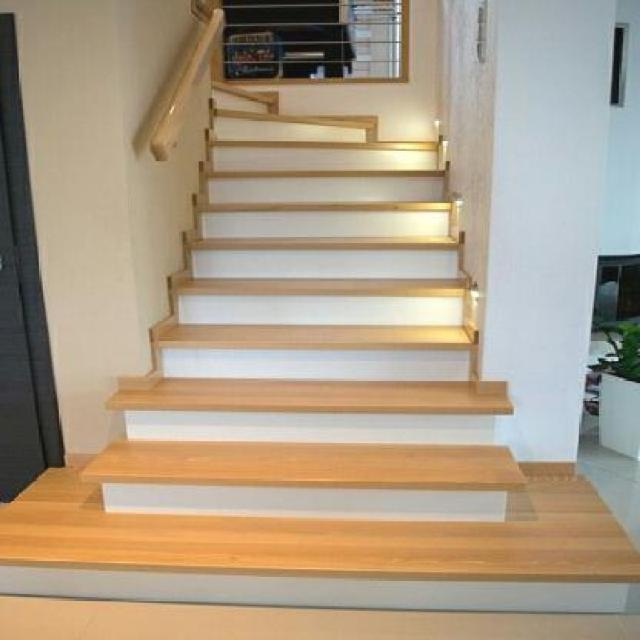stair: (104, 61, 613, 608)
